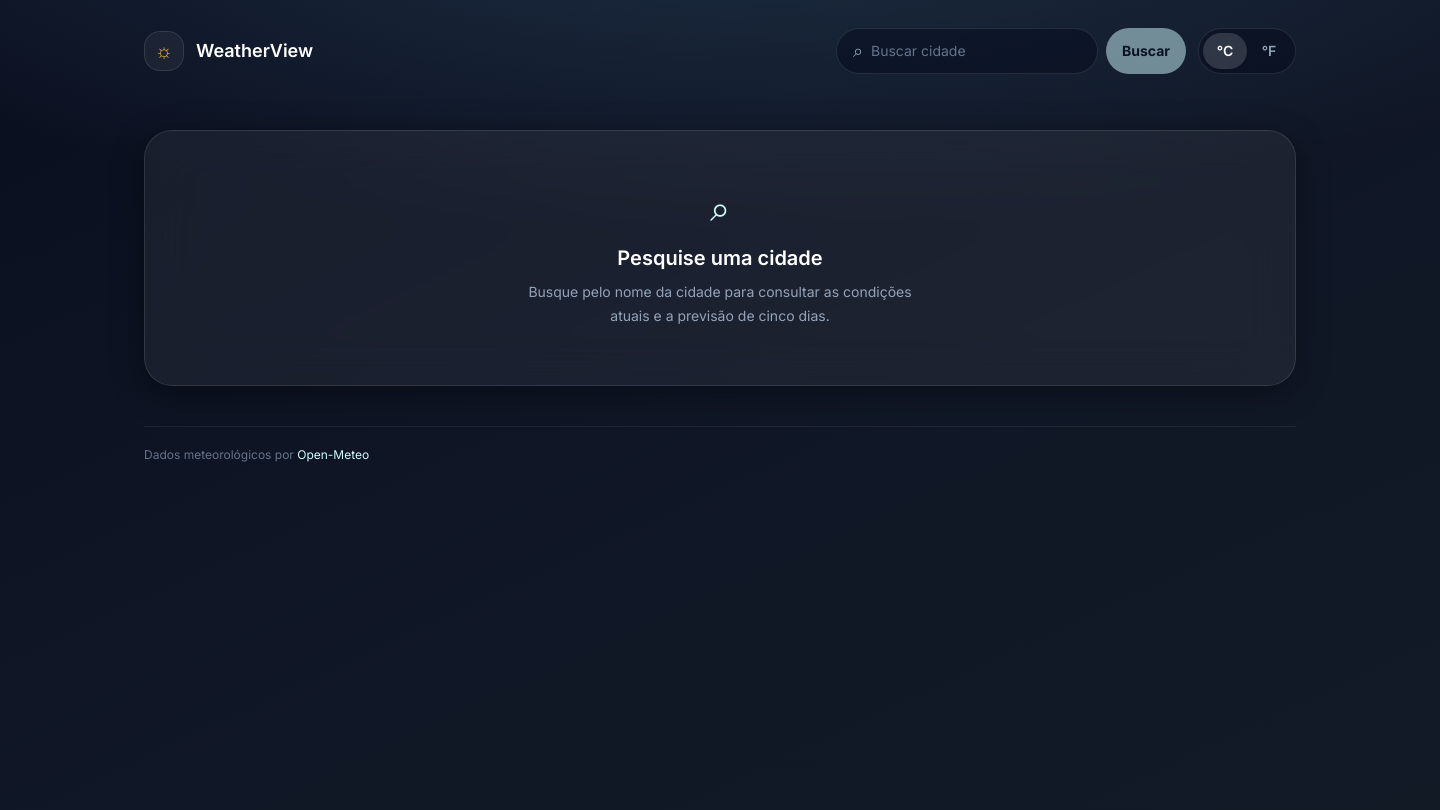
it: WeatherView › representa campos meteorológicos ausentes sem exibir null
Type "Lisboa" into the search field labelled "Buscar cidade" at (976, 51), box x1=871 y1=29 x2=1081 y2=73
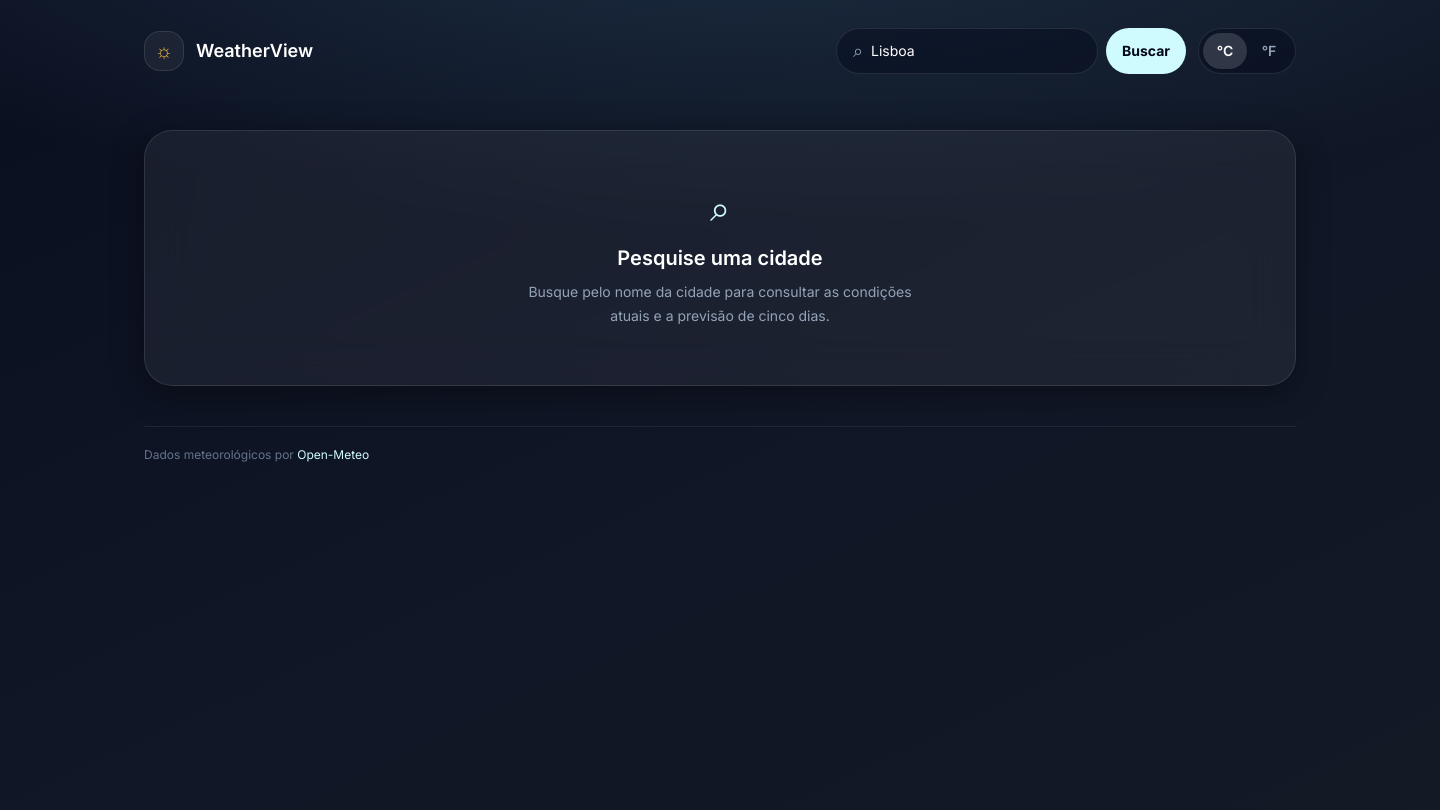
Click the button "Buscar" at (1146, 51), box x1=1106 y1=28 x2=1186 y2=74
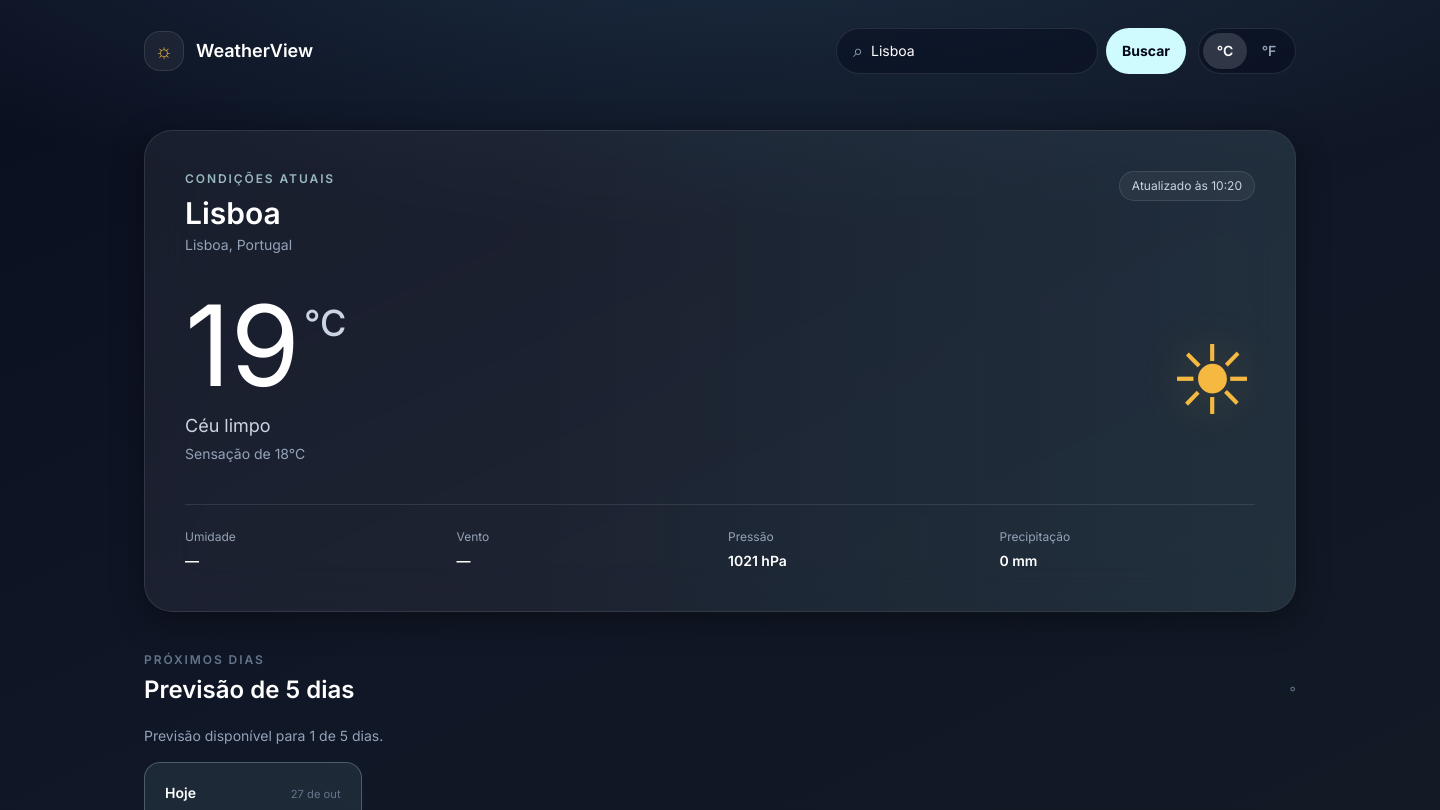
Expected: the heading "Lisboa" is shown, x1=185 y1=195 x2=281 y2=231
